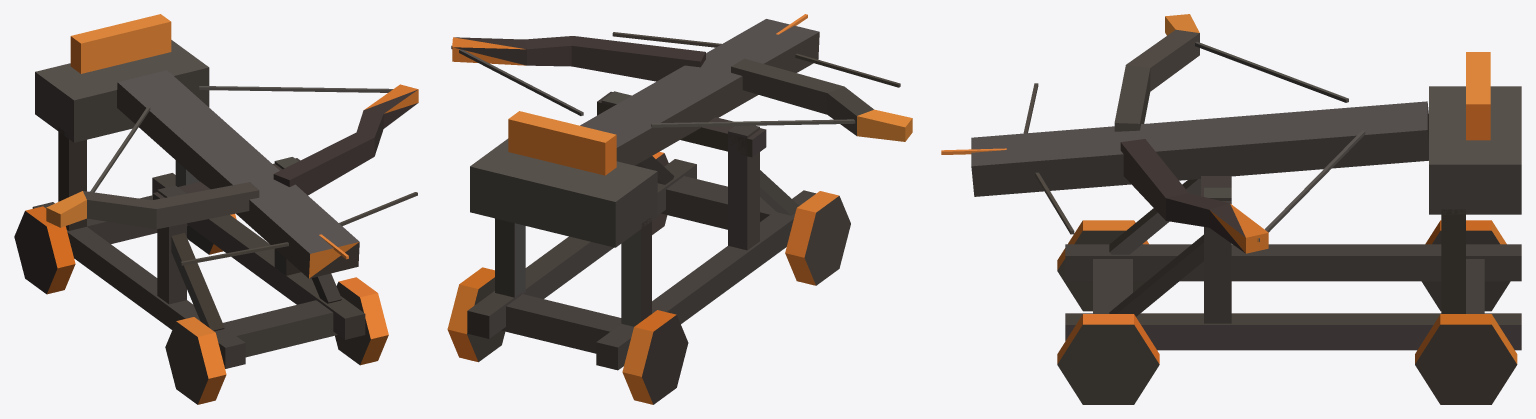
The model's file is ae_scorpion_bronze_lod2.glb.
The picture shows the model from 3 angles, left to right: view 1: azimuth 30°, elevation 25°; view 2: azimuth 150°, elevation 25°; view 3: azimuth 270°, elevation 25°; orthographic projection. The views are drawn at different scales.
Visible parts, largest first — view 1: AE_Forward_PlusZ; view 2: AE_Forward_PlusZ; view 3: AE_Forward_PlusZ.
Boxes of the visible parts, x1,y1,x2,y2 form: AE_Forward_PlusZ: [14, 14, 418, 404]; AE_Forward_PlusZ: [447, 14, 912, 404]; AE_Forward_PlusZ: [941, 14, 1521, 404].
Size of the model in its own units: 1.76 by 0.983 by 1.88.
2 materials, 2 textured.
